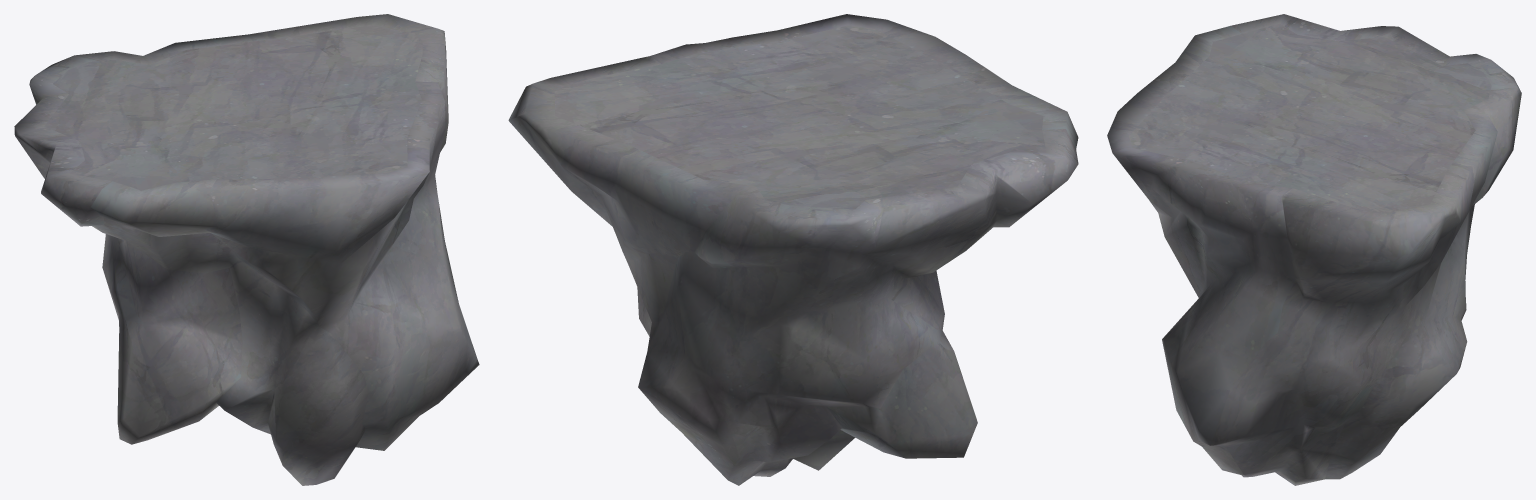
The model's file is Stages_MD_SDLStone02.fbx.
3 renders of one model, left to right at view 1: azimuth 30°, elevation 25°; view 2: azimuth 150°, elevation 25°; view 3: azimuth 270°, elevation 25°, orthographic. The views are drawn at different scales.
Parts seen in each view (by area): view 1: Stages_MD_SDLStone02_Lod1; view 2: Stages_MD_SDLStone02_Lod1; view 3: Stages_MD_SDLStone02_Lod1.
Boxes of the visible parts, x1,y1,x2,y2 form: Stages_MD_SDLStone02_Lod1: [14, 14, 479, 485]; Stages_MD_SDLStone02_Lod1: [508, 14, 1078, 485]; Stages_MD_SDLStone02_Lod1: [1107, 14, 1521, 485].
Bounding box in the file's own units: 41.35 × 30.83 × 33.35.
Materials: 1 (1 with a texture image).
